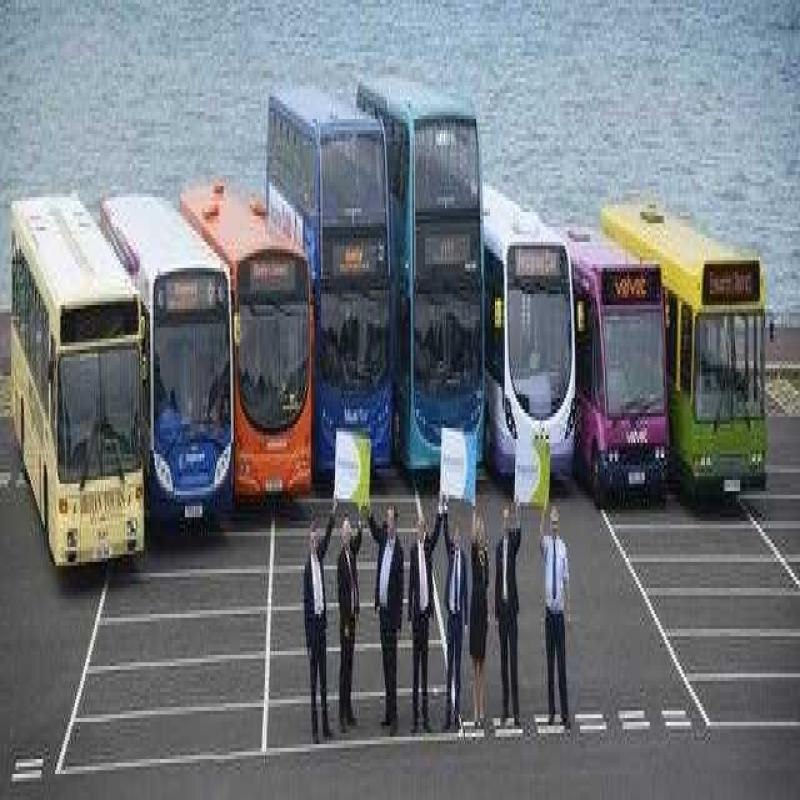bus: (19, 147, 148, 661), (115, 177, 258, 600), (227, 187, 334, 528), (316, 93, 397, 501), (500, 171, 581, 540), (581, 240, 675, 533), (412, 95, 477, 510), (690, 218, 782, 507)
